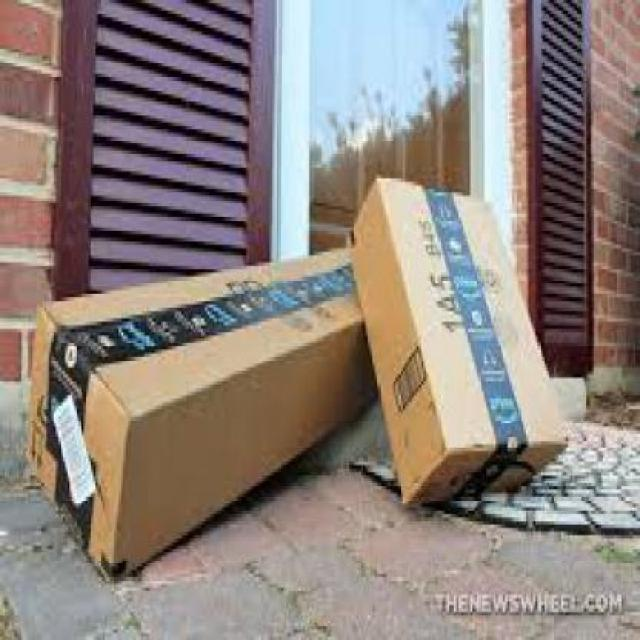obstacle: (26, 249, 334, 597), (332, 178, 580, 506)
